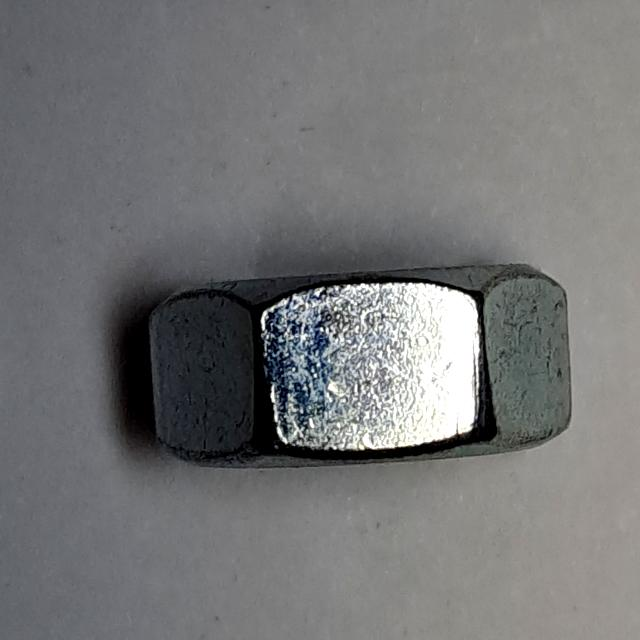Side_Excellent: (137, 248, 588, 494)
